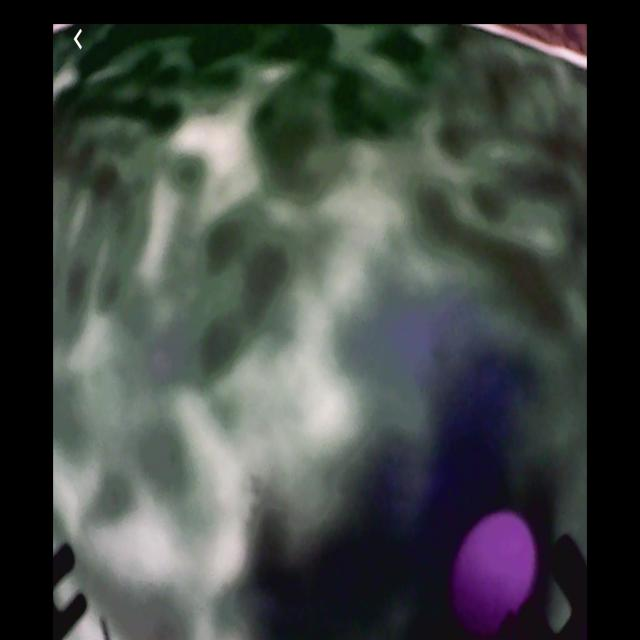ball: (451, 507, 538, 638)
